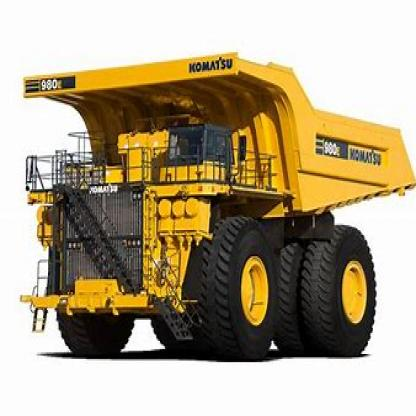dump_truck: (18, 44, 394, 367)
